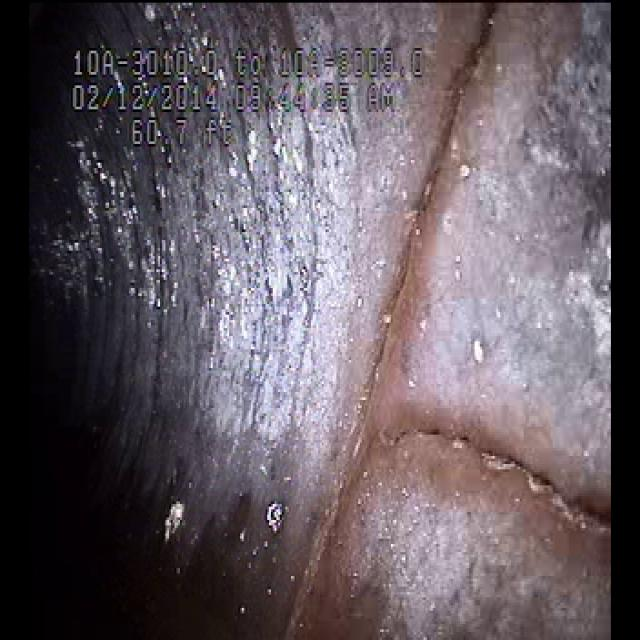Crack: (333, 143, 539, 537)
